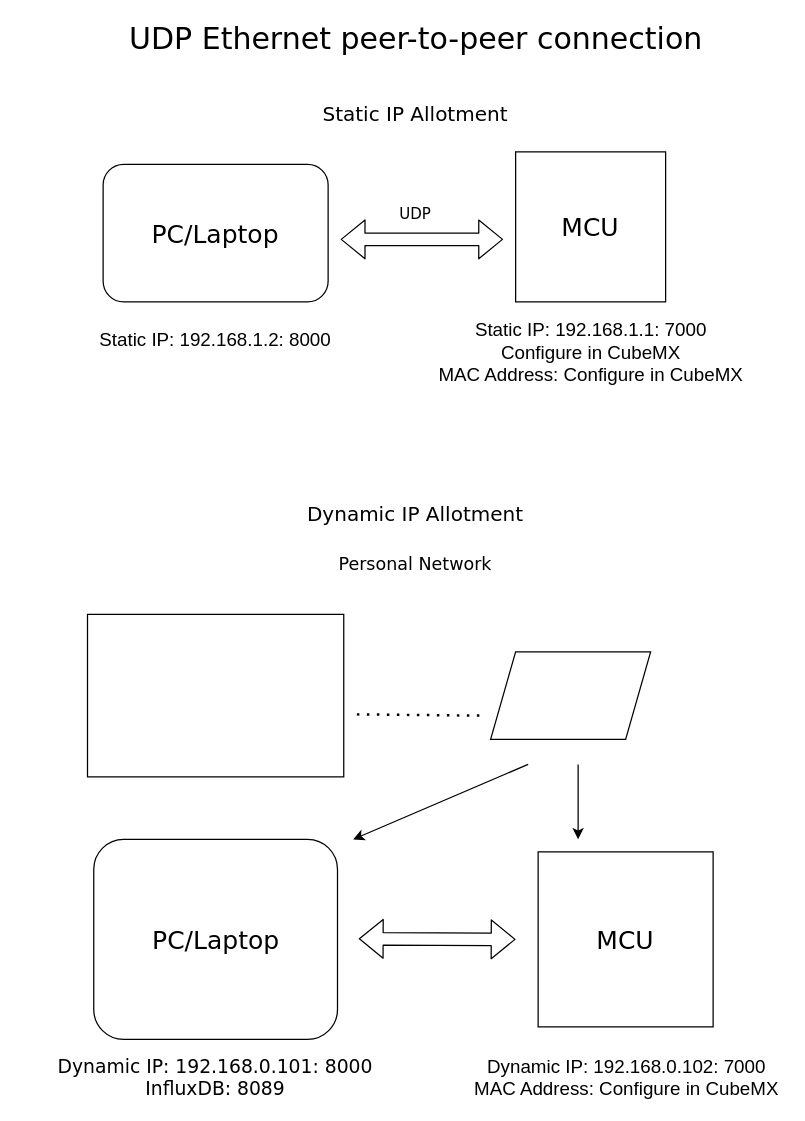
Image size: 805x1121. Some labels were removed from this diagram. Here are the shapes that lost their labels. From the top down, the centre of each, then its label:
(215,695): Server
(570,695): Router/ Access Point
